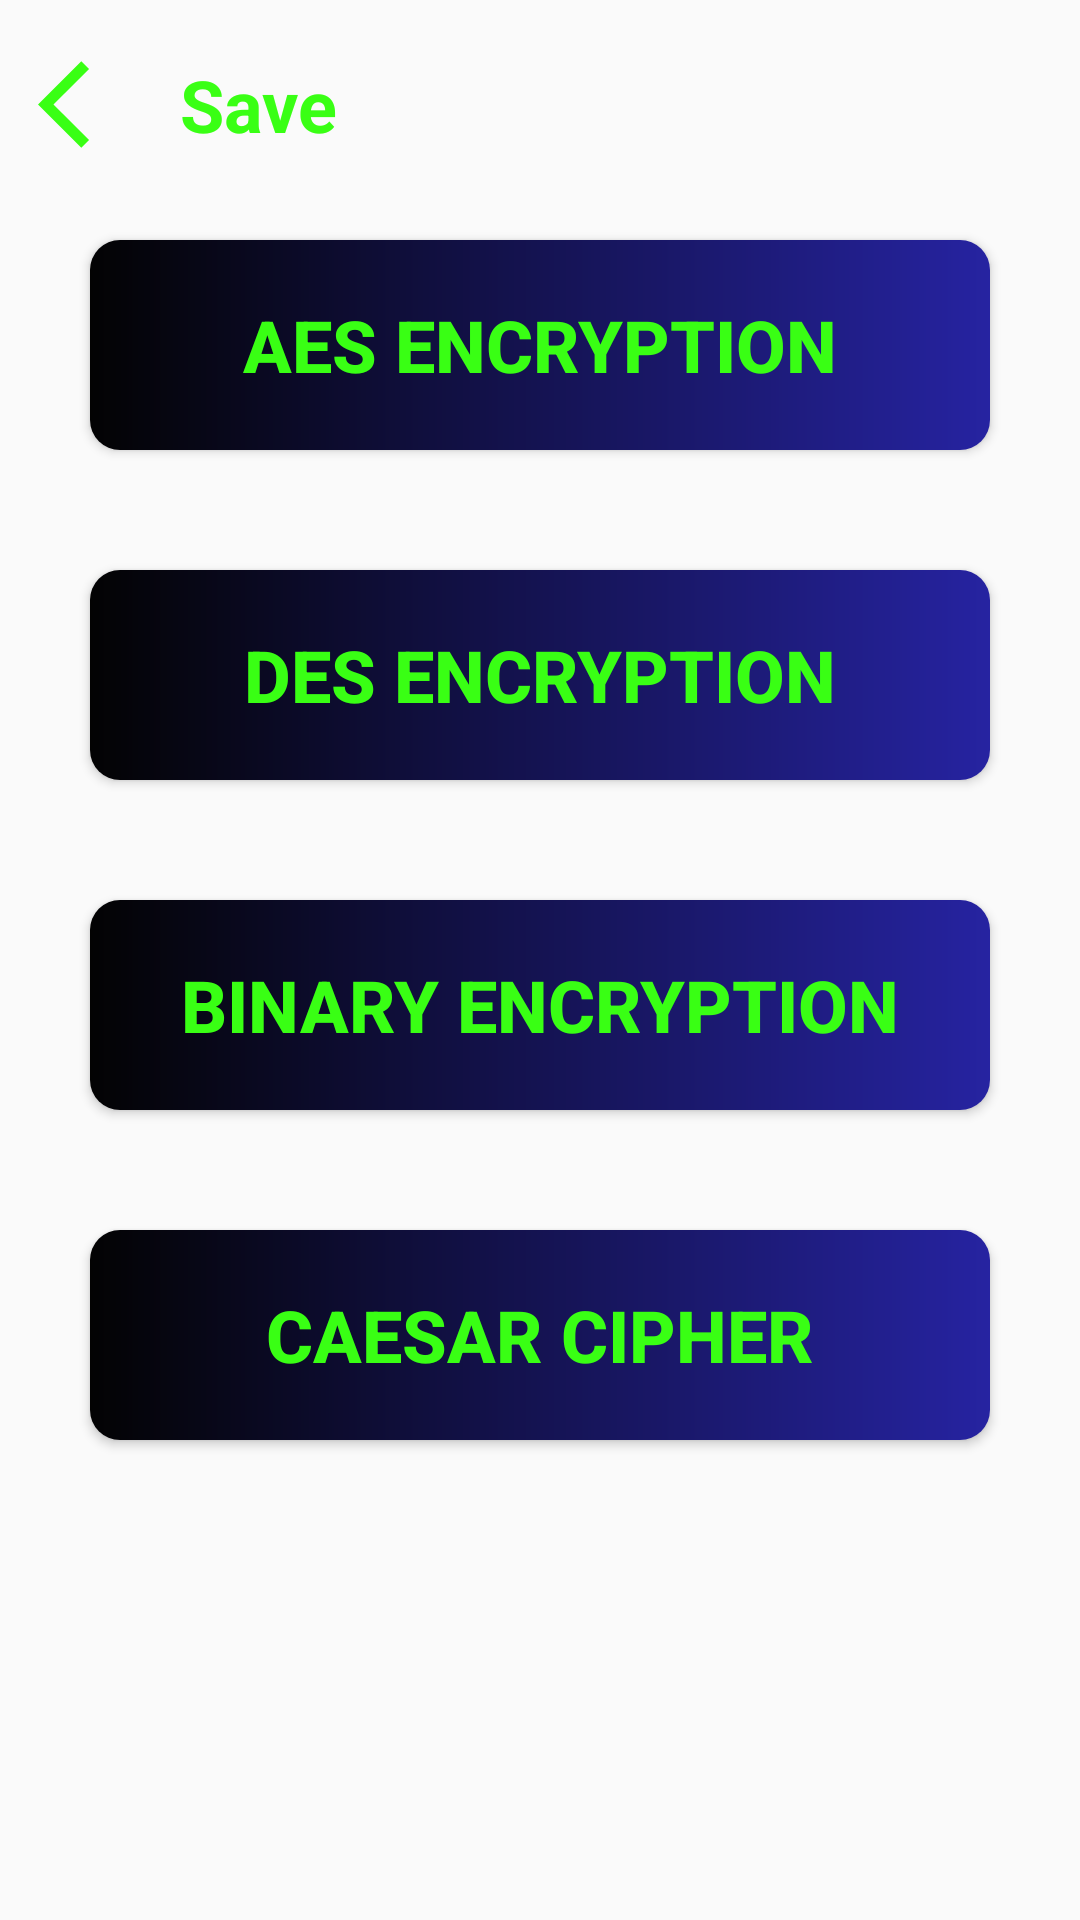

Where to tap for icons on this 1080*1920 app screen, as (x,y):
back: (63,104)
